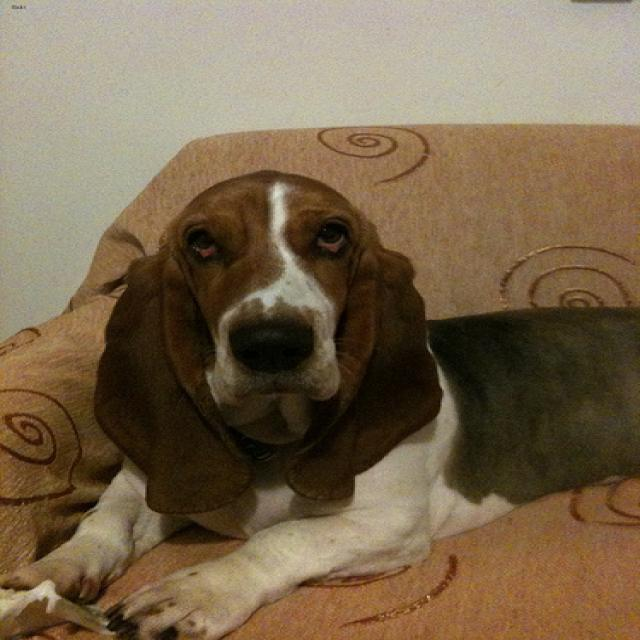dog-basset_hound: (2, 159, 637, 637)
